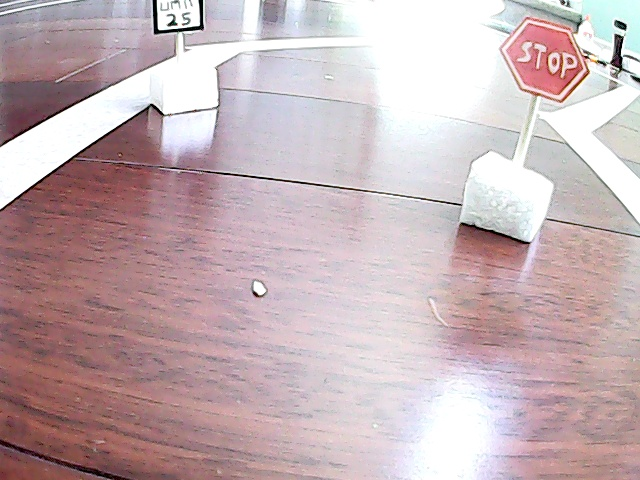speed_25: (148, 1, 224, 113)
stop: (489, 14, 584, 248)
